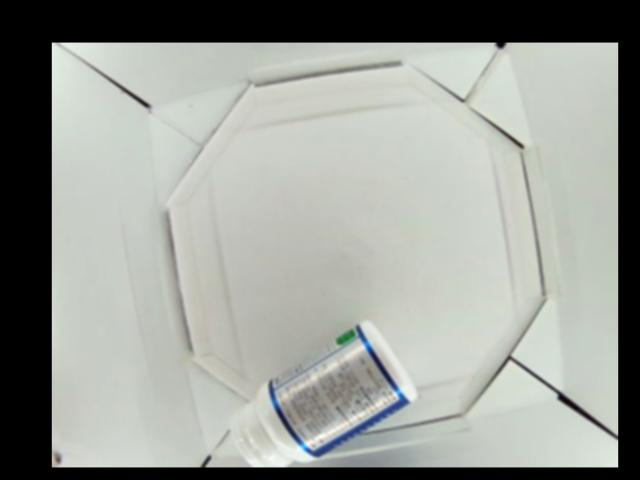Bottle: (228, 321, 419, 467)
